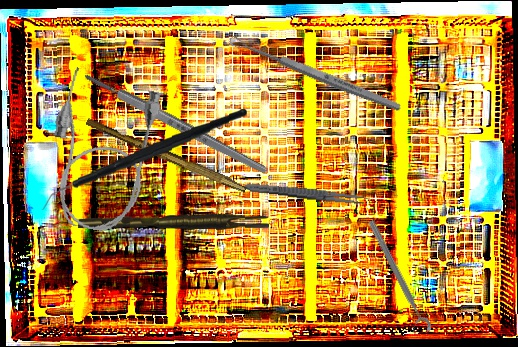Cannula: (36, 65, 166, 238)
Chopper: (36, 108, 252, 211)
Dressing Forceps: (243, 180, 371, 207)
Fixation Ring: (358, 218, 434, 338)
Scalpel Handle: (82, 70, 270, 177), (84, 117, 249, 193)
Surgical Spoon: (226, 33, 404, 114)
Tissue Forceps: (77, 208, 270, 235)
